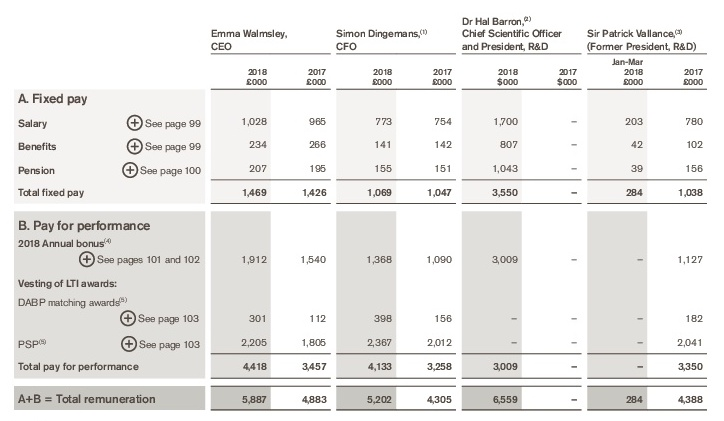table: (0, 0, 724, 421)
